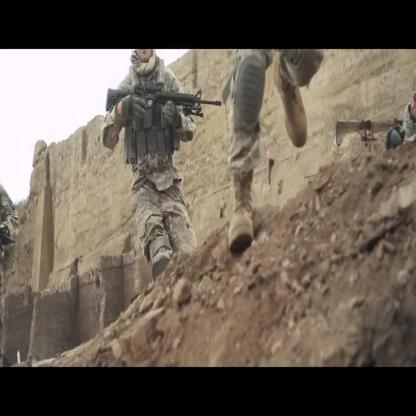Gun: (105, 76, 224, 129)
